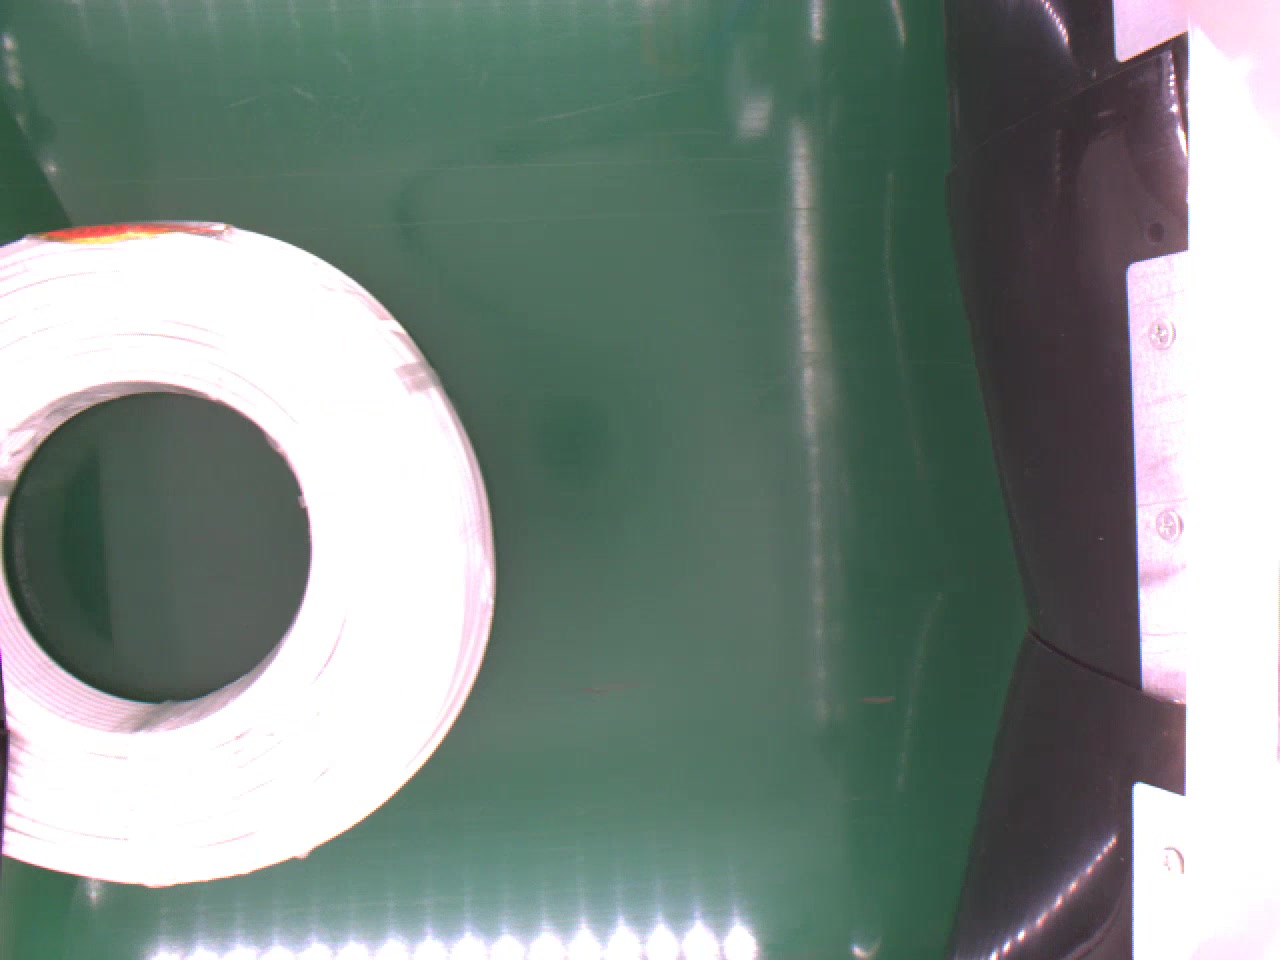white: (0, 219, 497, 890)
